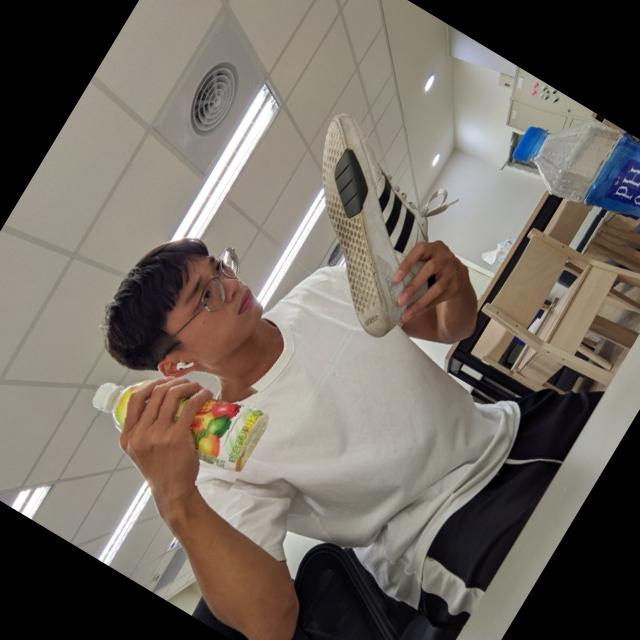plastic bottle: (75, 312, 284, 501), (487, 86, 640, 303)
